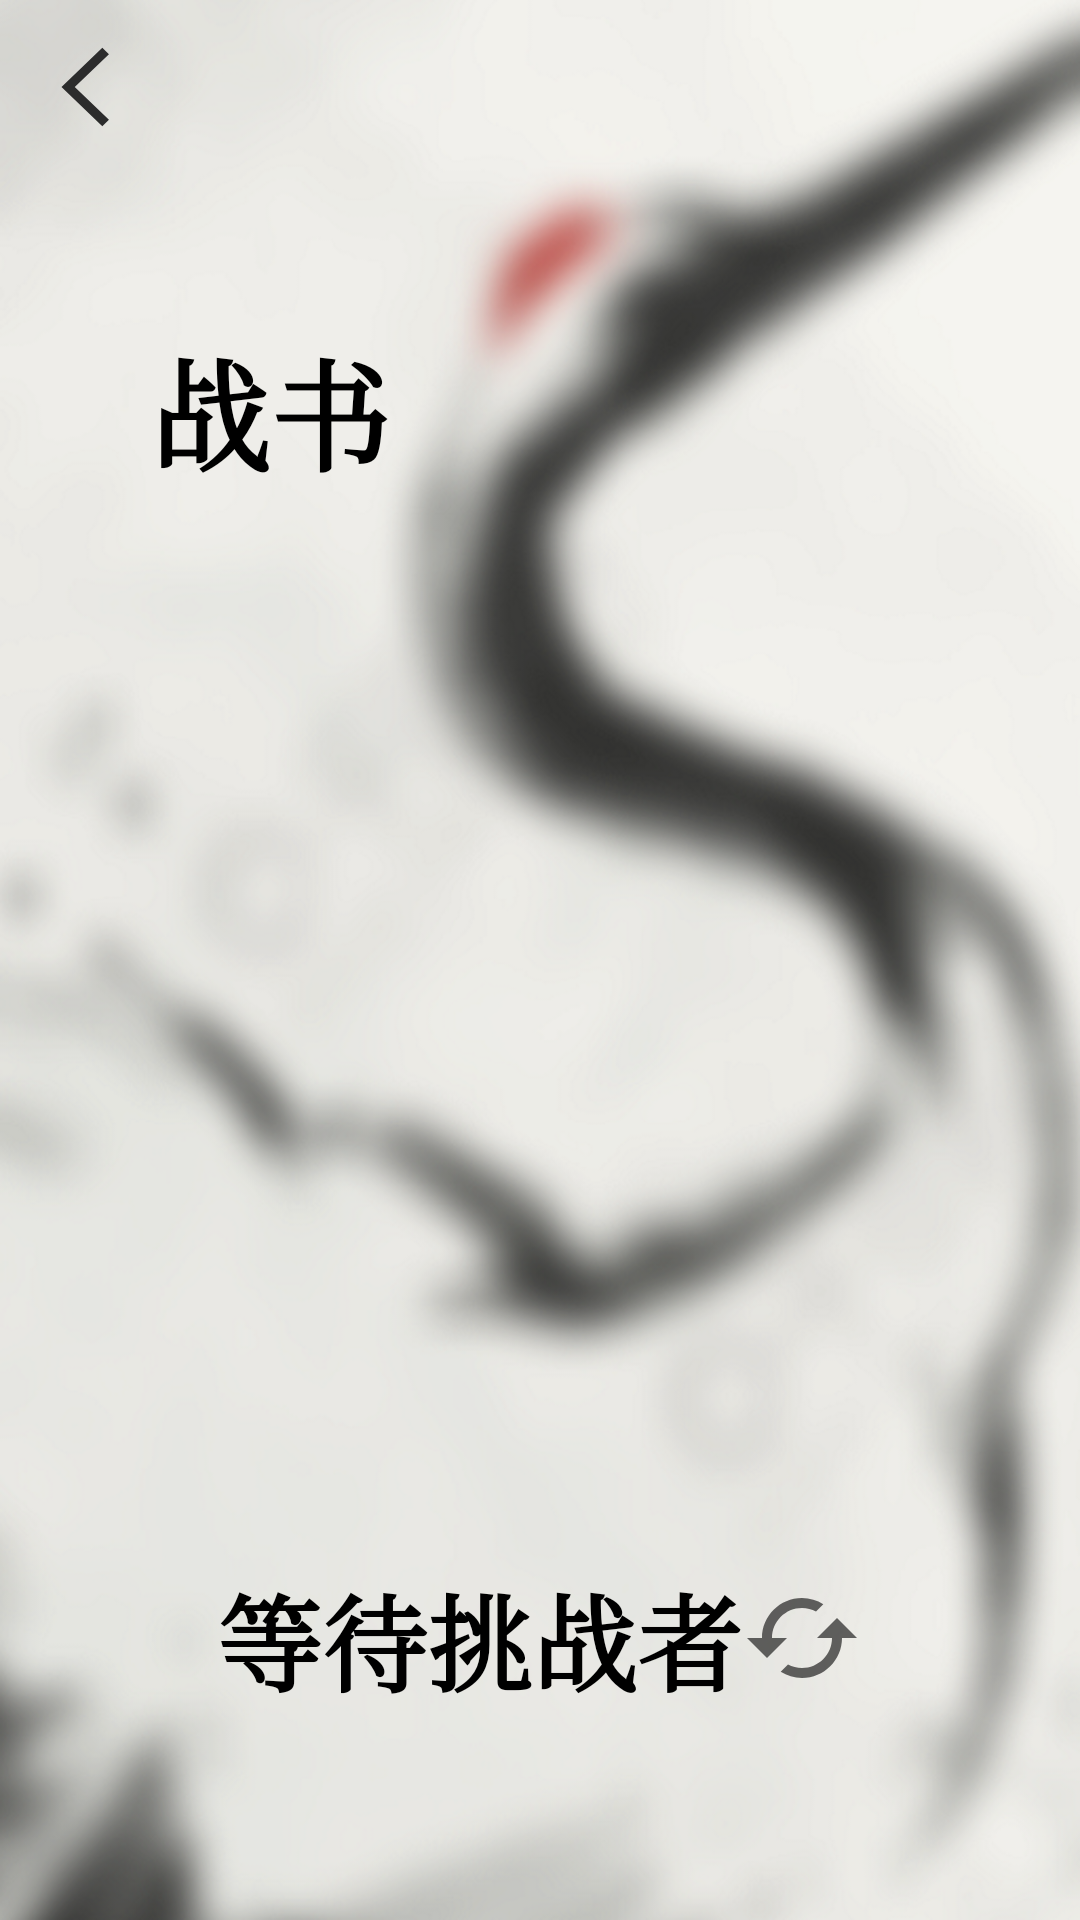

Named icons in this screenshot (1080*1920) and their bounding boxes, (x1, y1, x2, y2):
back: (62, 48, 109, 126)
waitting: (747, 1598, 857, 1678)
